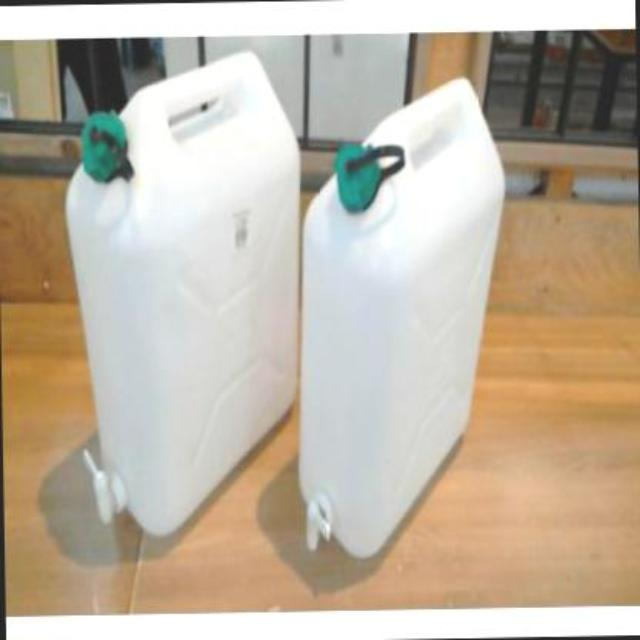chemical_plastic_gallon: (55, 46, 295, 542), (292, 68, 514, 564)
